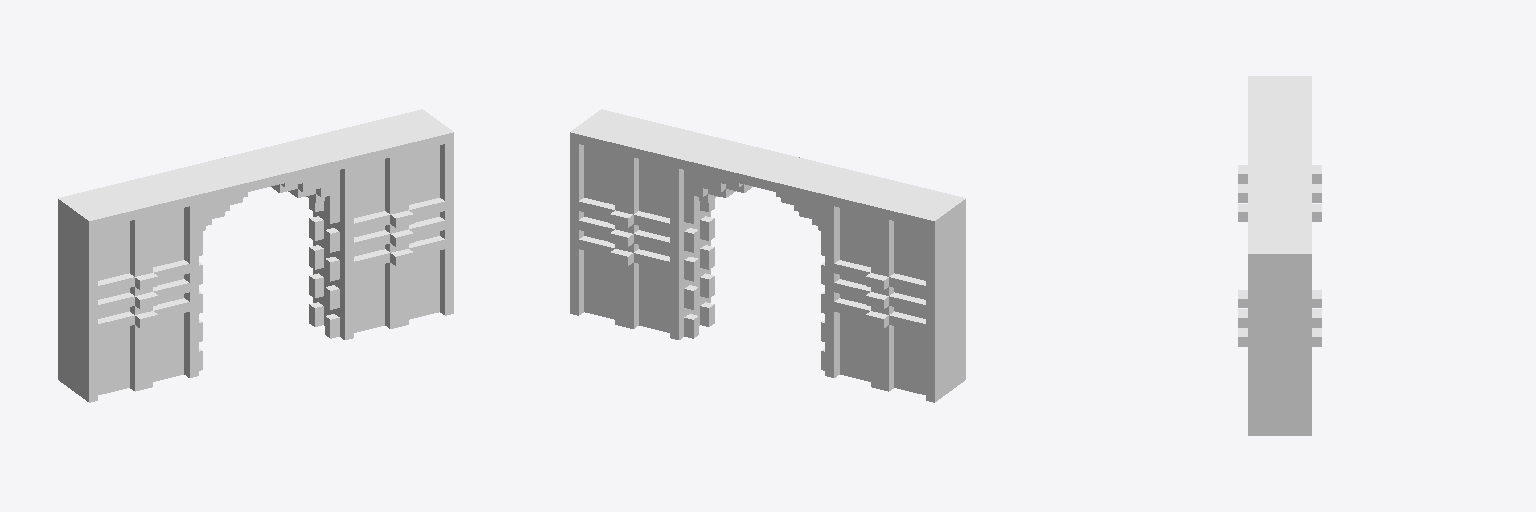
File: DoorOpen!.obj
3 views of the same model, side by side, from view 1: azimuth 30°, elevation 25°; view 2: azimuth 150°, elevation 25°; view 3: azimuth 270°, elevation 25° (orthographic).
Visible parts, largest first — view 1: object 1; view 2: object 1; view 3: object 1.
Part boxes in pixels (bbox=[...]): object 1: bbox=[58, 109, 453, 402]; object 1: bbox=[570, 109, 965, 402]; object 1: bbox=[1238, 76, 1321, 435].
Bounding box in the file's own units: 4 × 1.9 × 0.8.